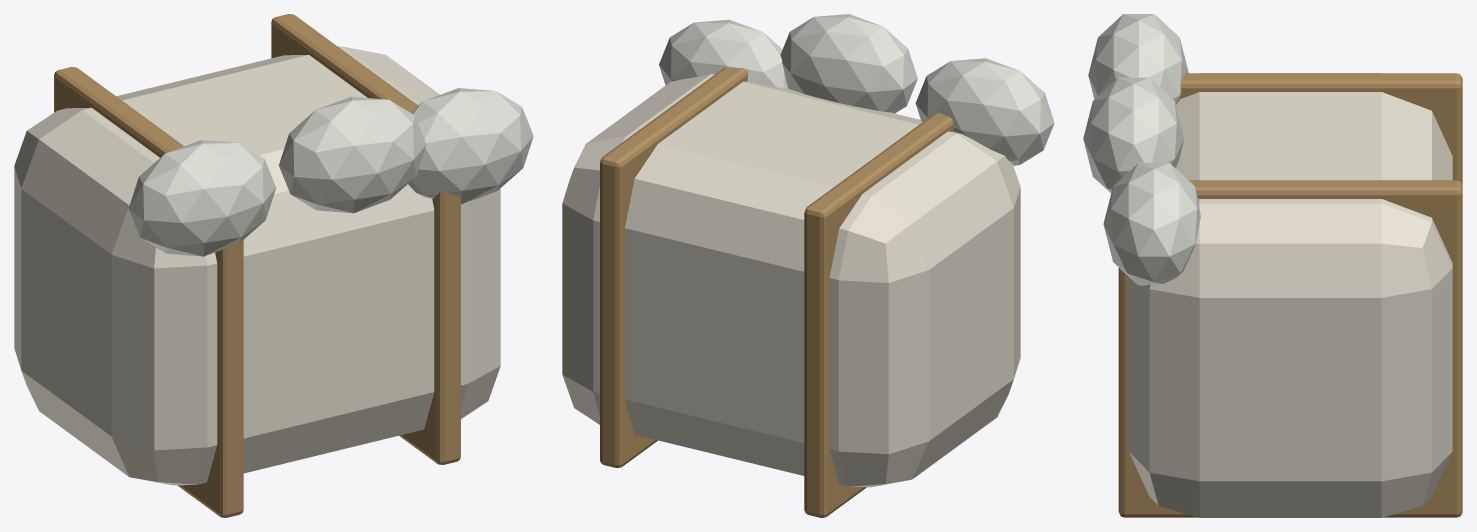
The model's file is economy_cargo_wool_v01.glb.
3 renders of one model, left to right at view 1: azimuth 30°, elevation 25°; view 2: azimuth 150°, elevation 25°; view 3: azimuth 270°, elevation 25°, orthographic. The views are drawn at different scales.
Parts seen in each view (by area): view 1: GEO_WoolBale, GEO_WoolTuft_1, GEO_WoolTuft_0, GEO_WoolBinding.001, GEO_WoolBinding, GEO_WoolTuft_2; view 2: GEO_WoolBale, GEO_WoolBinding, GEO_WoolBinding.001, GEO_WoolTuft_1, GEO_WoolTuft_0, GEO_WoolTuft_2; view 3: GEO_WoolBale, GEO_WoolBinding.001, GEO_WoolTuft_2, GEO_WoolTuft_1, GEO_WoolBinding, GEO_WoolTuft_0.
Part boxes in pixels (left/top/right/bottom): GEO_WoolBale: left=14, top=46, right=500, bottom=485; GEO_WoolTuft_1: left=279, top=96, right=426, bottom=213; GEO_WoolTuft_0: left=128, top=140, right=275, bottom=256; GEO_WoolBinding.001: left=271, top=14, right=460, bottom=464; GEO_WoolBinding: left=54, top=67, right=243, bottom=517; GEO_WoolTuft_2: left=408, top=88, right=533, bottom=204; GEO_WoolBale: left=562, top=74, right=1020, bottom=487; GEO_WoolBinding: left=804, top=112, right=953, bottom=517; GEO_WoolBinding.001: left=600, top=67, right=748, bottom=467; GEO_WoolTuft_1: left=780, top=14, right=917, bottom=113; GEO_WoolTuft_0: left=915, top=58, right=1054, bottom=165; GEO_WoolTuft_2: left=659, top=19, right=787, bottom=88; GEO_WoolBale: left=1128, top=73, right=1452, bottom=517; GEO_WoolBinding.001: left=1118, top=180, right=1462, bottom=517; GEO_WoolTuft_2: left=1103, top=162, right=1200, bottom=285; GEO_WoolTuft_1: left=1083, top=77, right=1184, bottom=193; GEO_WoolBinding: left=1180, top=73, right=1462, bottom=184; GEO_WoolTuft_0: left=1088, top=14, right=1188, bottom=104.
Bounding box in the file's own units: 0.9143 × 0.84 × 0.75.
